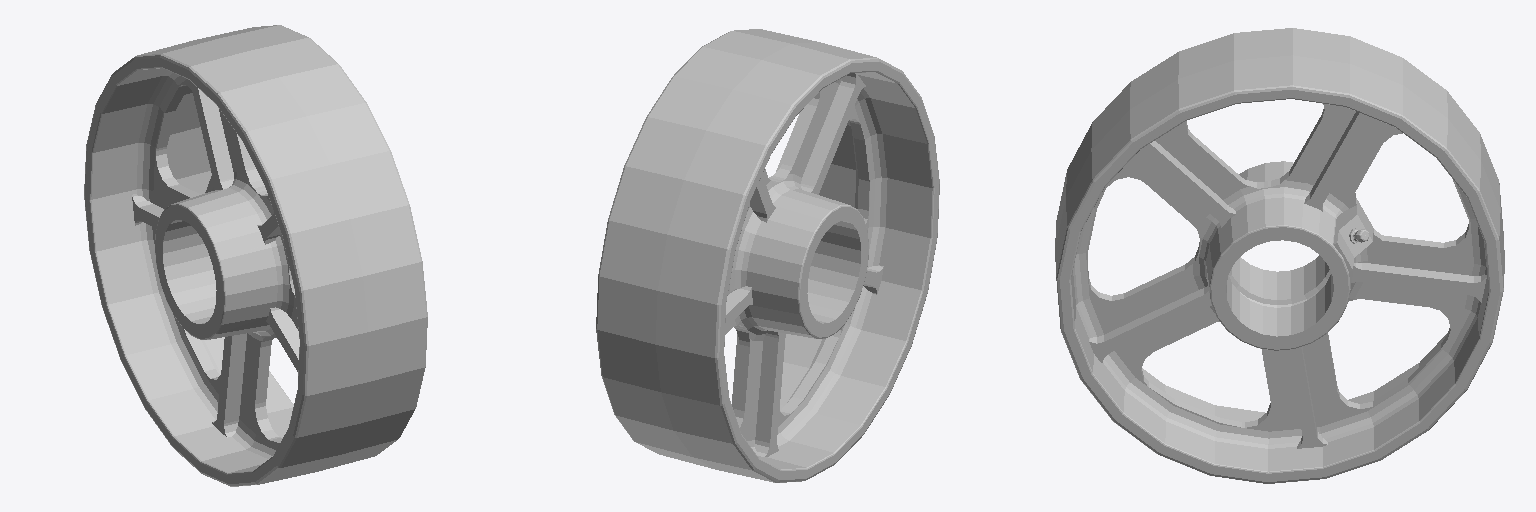
Rendered from original-24.obj.
3 views of the same model, side by side, from view 1: azimuth 30°, elevation 25°; view 2: azimuth 150°, elevation 25°; view 3: azimuth 270°, elevation 25° (orthographic).
Parts seen in each view (by area): view 1: mesh17/mesh17-geometry#mesh17-geometry; view 2: mesh17/mesh17-geometry#mesh17-geometry; view 3: mesh17/mesh17-geometry#mesh17-geometry.
Part boxes in pixels (x1,y1,x2,y2): mesh17/mesh17-geometry#mesh17-geometry: (84,25,427,486); mesh17/mesh17-geometry#mesh17-geometry: (596,29,939,482); mesh17/mesh17-geometry#mesh17-geometry: (1055,28,1504,483).
Bounding box in the file's own units: 0.0684 × 0.1973 × 0.2006.